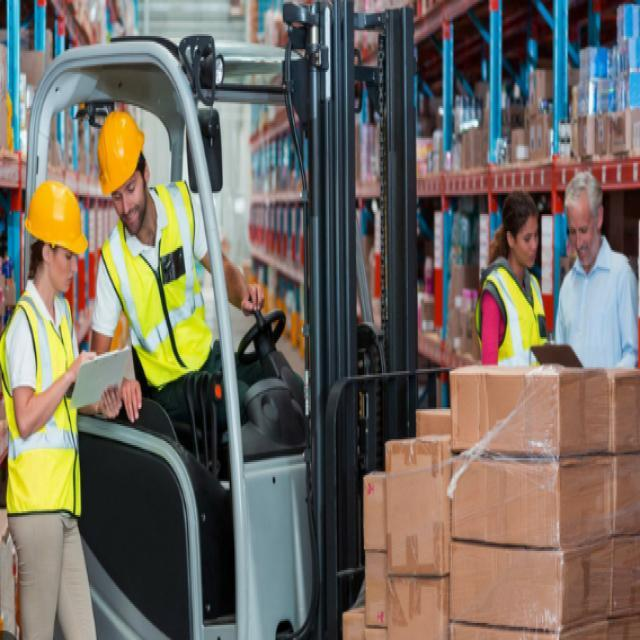hard_hat: (23, 179, 91, 299), (92, 107, 152, 236)
vest: (98, 177, 221, 394), (0, 294, 87, 526), (475, 269, 552, 405)
